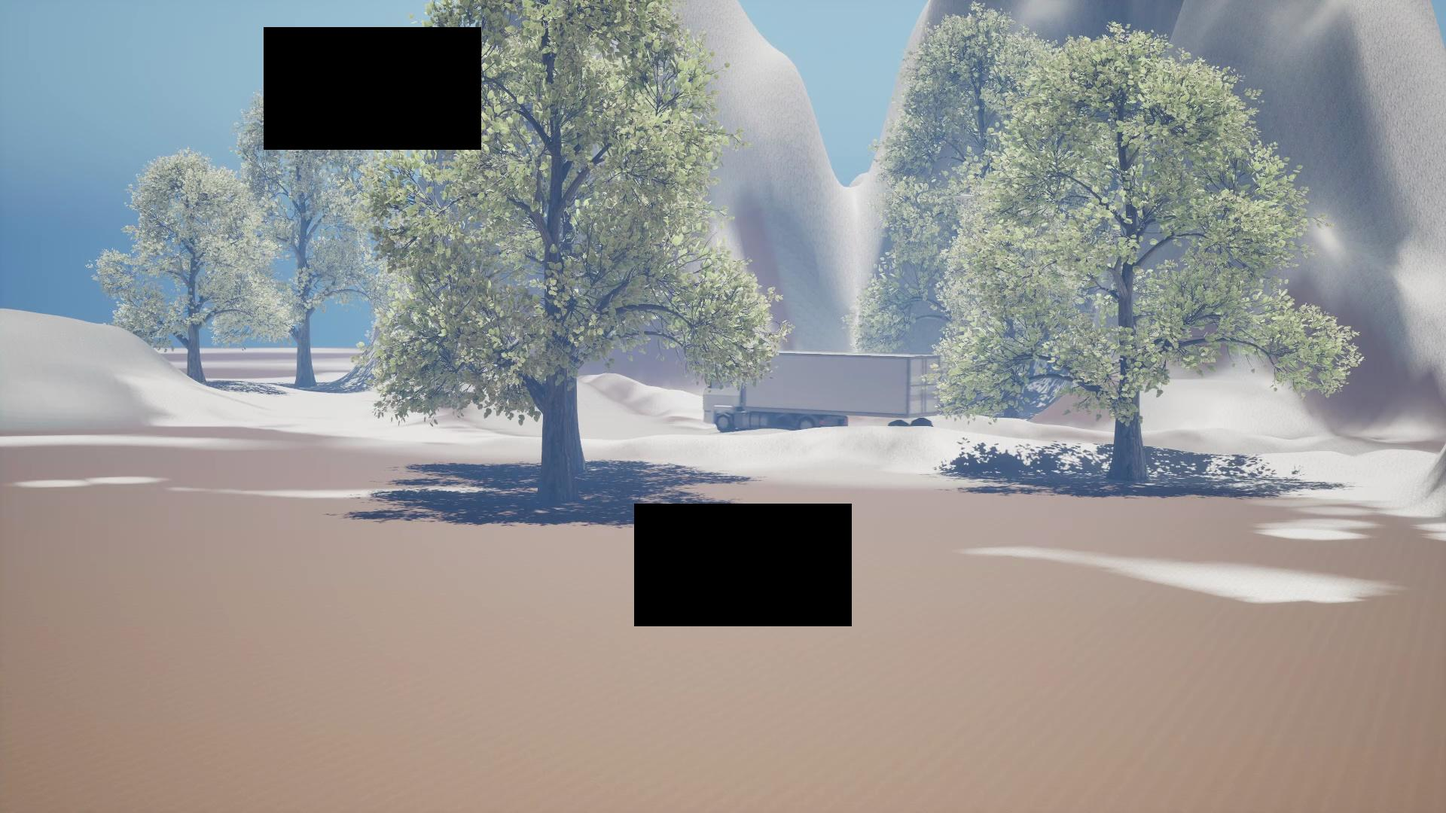truck: (778, 354, 937, 424)
